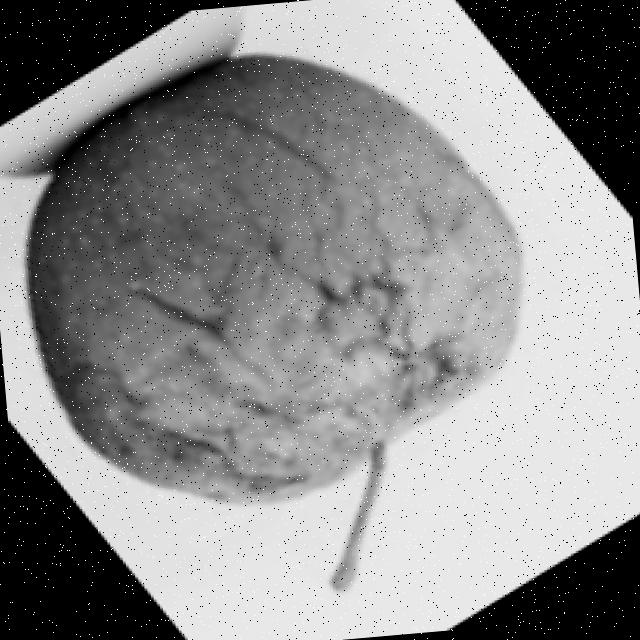overripe: (4, 26, 554, 532)
